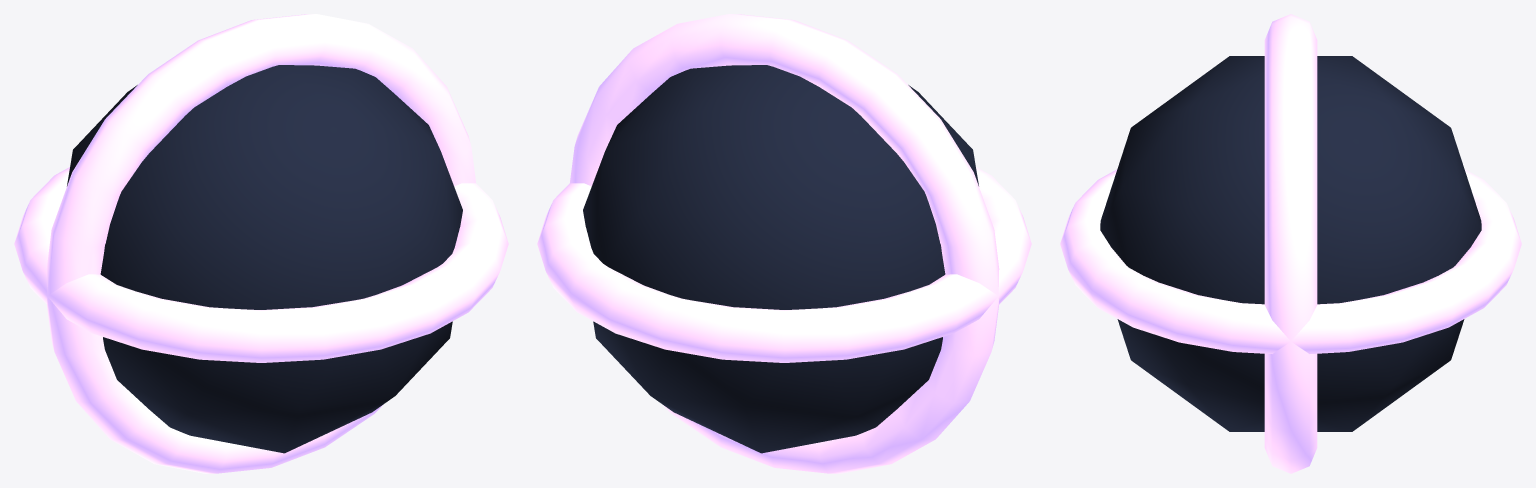
File: proj_bomb.glb
3 views of the same model, side by side, from view 1: azimuth 30°, elevation 25°; view 2: azimuth 150°, elevation 25°; view 3: azimuth 270°, elevation 25° (orthographic). The views are drawn at different scales.
Parts seen in each view (by area): view 1: proj_bomb; view 2: proj_bomb; view 3: proj_bomb.
Part boxes in pixels (x1,y1,x2,y2): proj_bomb: [14, 14, 508, 473]; proj_bomb: [537, 14, 1031, 473]; proj_bomb: [1060, 14, 1521, 473].
Size of the model in its own units: 1.4 by 1.4 by 1.4.
